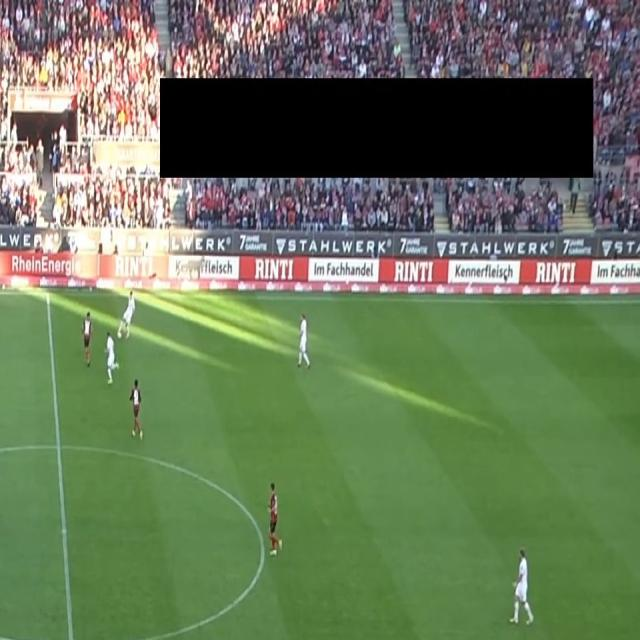ball: (117, 330, 122, 340)
